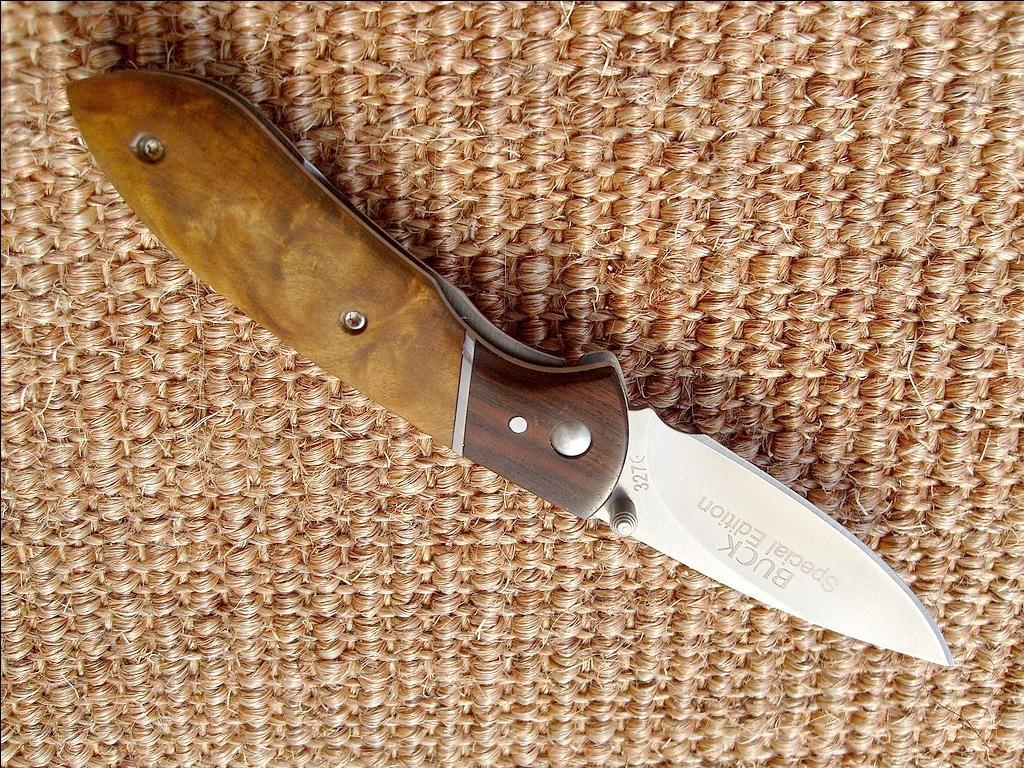melee: (58, 28, 958, 682)
